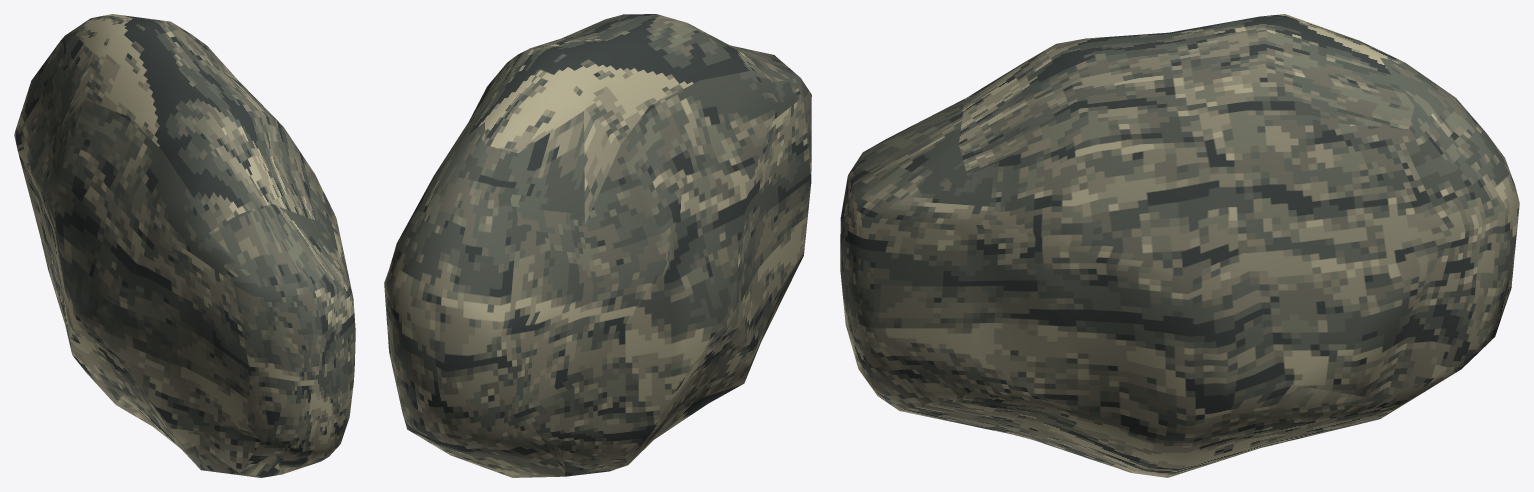
The model's file is rockLarge02.fbx.
The picture shows the model from 3 angles, left to right: view 1: azimuth 30°, elevation 25°; view 2: azimuth 150°, elevation 25°; view 3: azimuth 270°, elevation 25°; orthographic projection. The views are drawn at different scales.
Visible parts, largest first — view 1: RockLarge2; view 2: RockLarge2; view 3: RockLarge2.
Boxes of the visible parts, <box> form: RockLarge2: <box>14,14,355,477</box>; RockLarge2: <box>384,14,811,477</box>; RockLarge2: <box>840,14,1519,477</box>.
Bounding box in the file's own units: 44.01 × 71.1 × 98.13.
